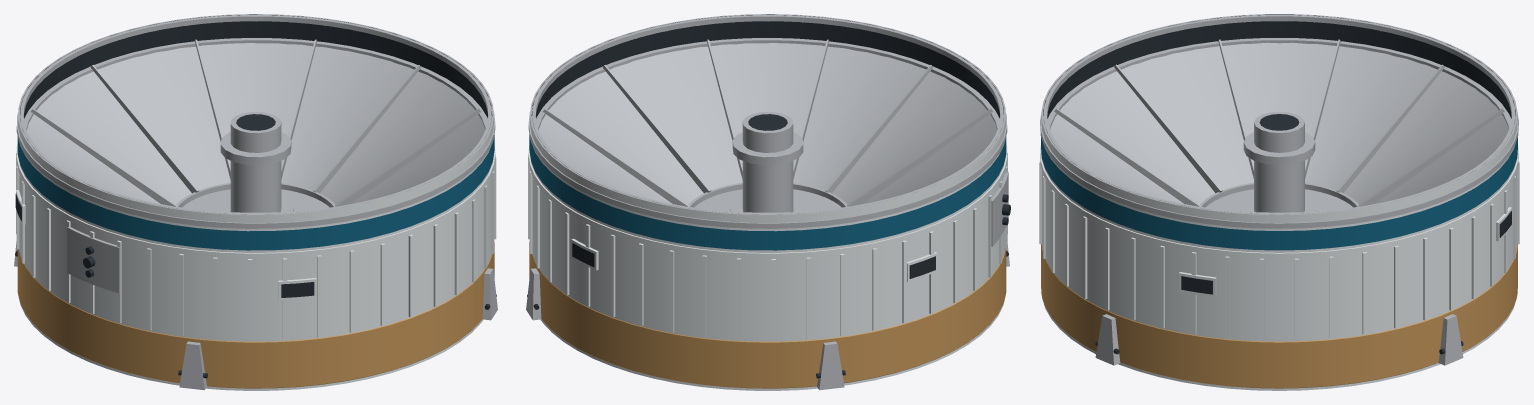
Rendered from mount_s1_1_d54.glb.
3 renders of one model, left to right at view 1: azimuth 30°, elevation 25°; view 2: azimuth 150°, elevation 25°; view 3: azimuth 270°, elevation 25°, orthographic.
Visible parts, largest first — view 1: mount_s1_1_d54_mesh; view 2: mount_s1_1_d54_mesh; view 3: mount_s1_1_d54_mesh.
Boxes of the visible parts, box(x1,y1,x2,y2) form: mount_s1_1_d54_mesh: box(14, 14, 497, 390); mount_s1_1_d54_mesh: box(526, 14, 1010, 390); mount_s1_1_d54_mesh: box(1039, 14, 1519, 390).
Bounding box in the file's own units: 5.44 × 2.2 × 5.45.
